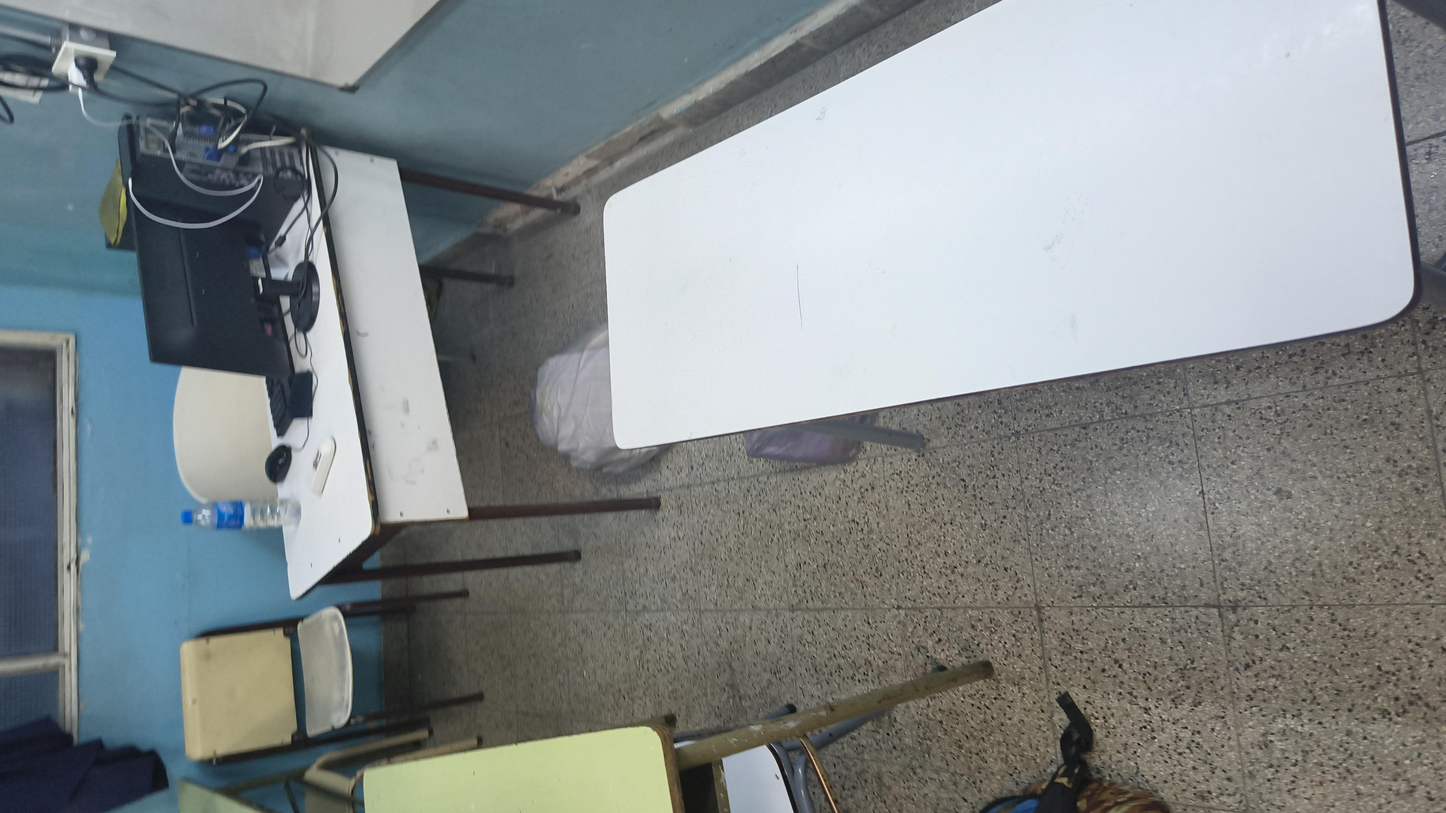Garbage: (565, 280, 935, 387), (577, 395, 816, 508)
